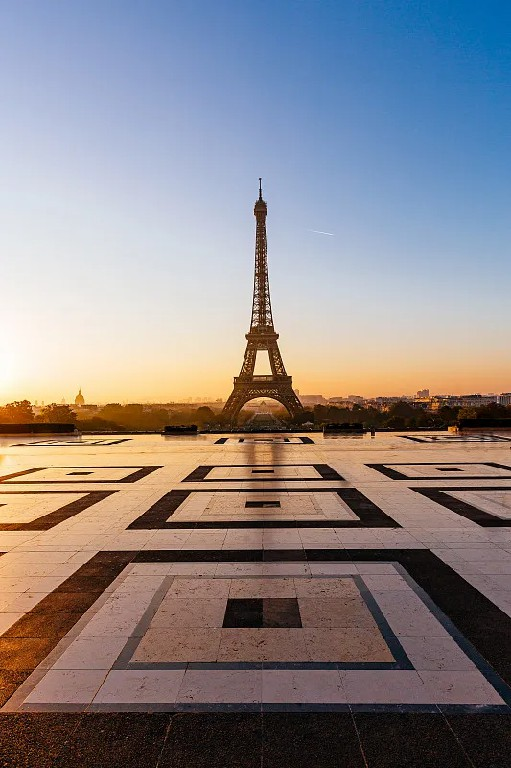Eiffel: (220, 177, 307, 424)
